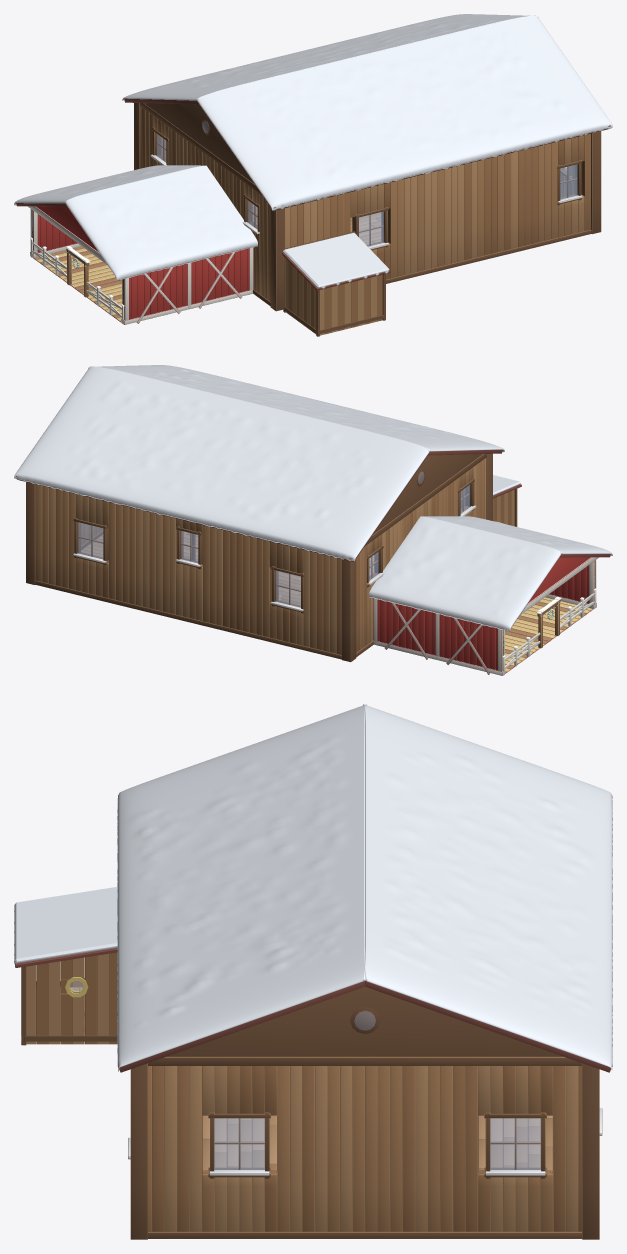
File: Edificio.glb
The picture shows the model from 3 angles, top to bottom: view 1: azimuth 30°, elevation 25°; view 2: azimuth 150°, elevation 25°; view 3: azimuth 270°, elevation 25°; orthographic projection. The views are drawn at different scales.
Parts seen in each view (by area): view 1: Taller_Techo, Taller_Paredes, Establo, Cuarto_Maquinas, Establo_Porton, Taller_Piso; view 2: Taller_Techo, Taller_Paredes, Establo, Establo_Porton, Taller_Piso, Cuarto_Maquinas; view 3: Taller_Techo, Taller_Paredes, Cuarto_Maquinas, Taller_Piso.
Part boxes in pixels (x1,y1,x2,y2): Taller_Techo: (122,14,612,210); Taller_Paredes: (134,103,601,311); Establo: (14,165,257,324); Cuarto_Maquinas: (282,231,390,336); Establo_Porton: (30,237,124,323); Taller_Piso: (252,204,381,244); Taller_Techo: (14,365,504,561); Taller_Paredes: (26,453,492,662); Establo: (369,516,612,675); Establo_Porton: (502,588,596,674); Taller_Piso: (81,531,374,605); Cuarto_Maquinas: (493,475,521,526); Taller_Techo: (117,704,612,1072); Taller_Paredes: (128,1056,602,1239); Cuarto_Maquinas: (14,887,117,1045); Taller_Piso: (202,1115,553,1170).
Bounding box in the file's own units: 35.9 × 12.29 × 23.88.
